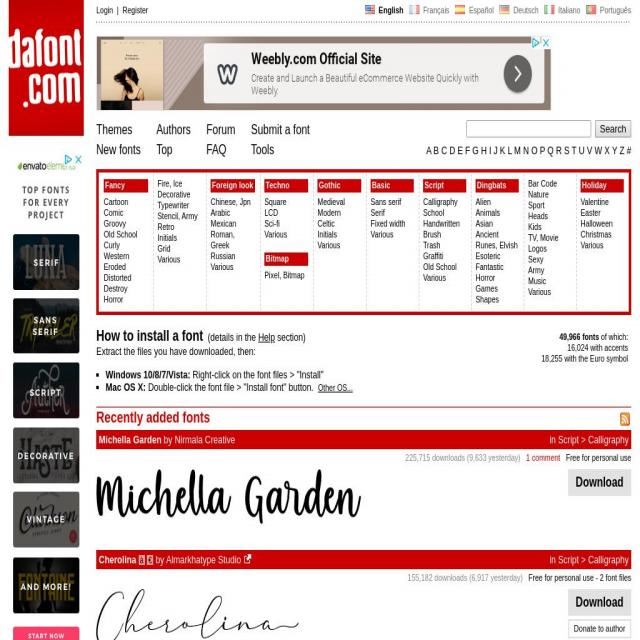download: (562, 585, 632, 618), (566, 470, 634, 502)
language: (358, 4, 638, 28)
list: (104, 180, 616, 307)
login-option: (90, 2, 118, 20)
navigation-links: (96, 165, 640, 318), (92, 118, 318, 162)
search: (465, 117, 635, 145)
sign-up-option: (120, 1, 150, 22)
